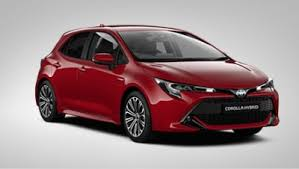Toyota: (38, 25, 279, 137)
